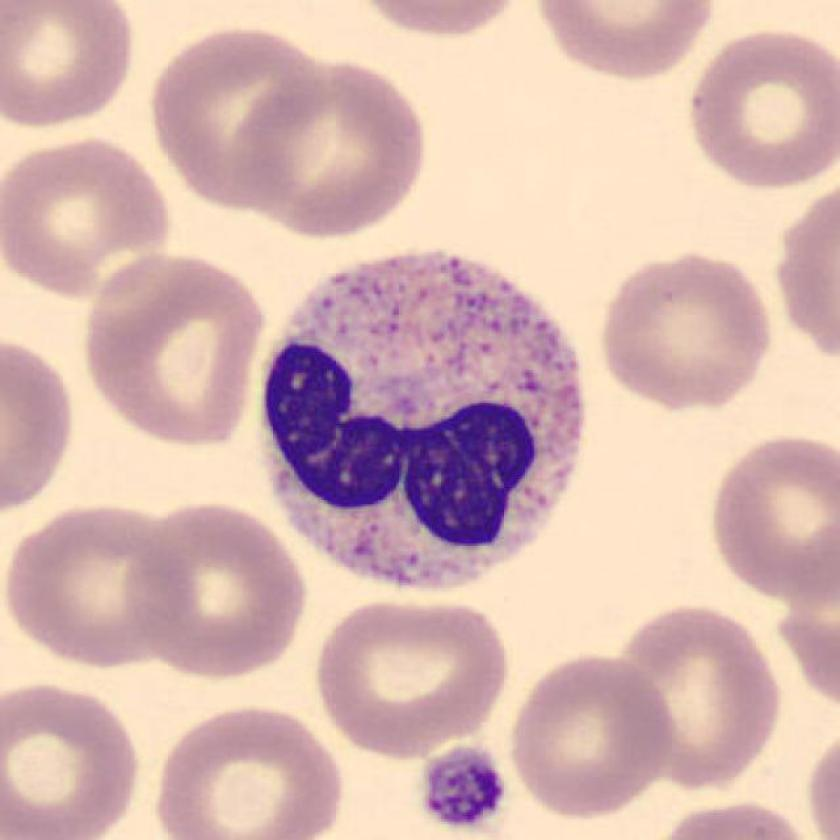neutrophil: (261, 256, 586, 585)
